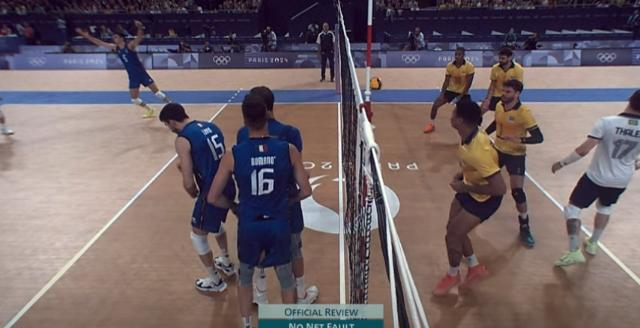Levantador: (488, 76, 528, 238)
Libero: (562, 88, 640, 262)
bola: (369, 76, 383, 92)
